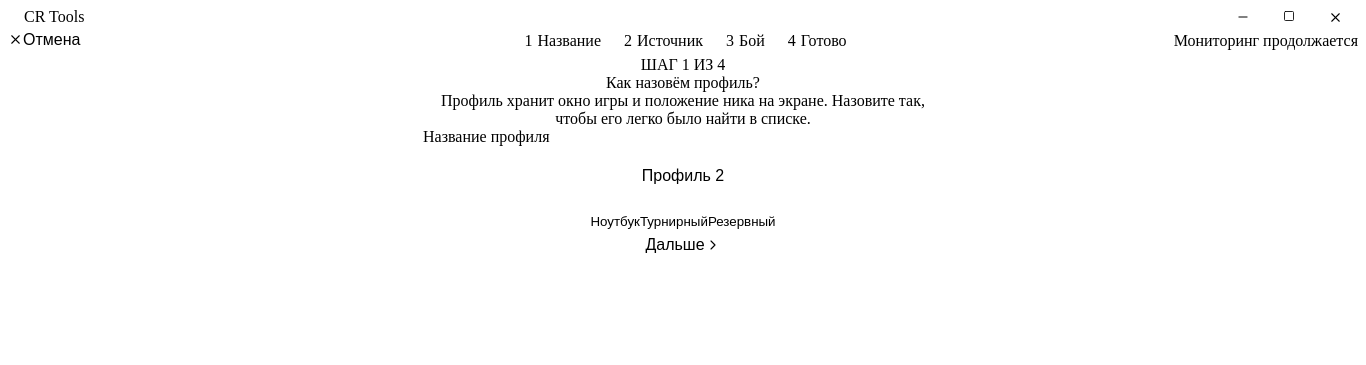
setup flow: new profile › reports a freeze failure on the source step and lets the user pick again
Click the button "Дальше" at (683,245), box [645,236,720,254]
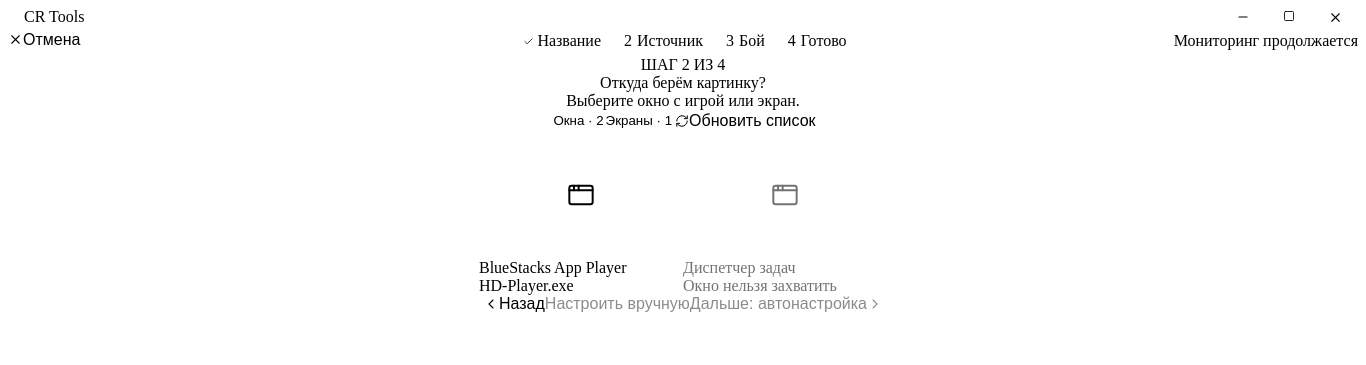
Click the button "BlueStacks App Player HD-Player.exe" at (581,213), box [479,131,683,294]
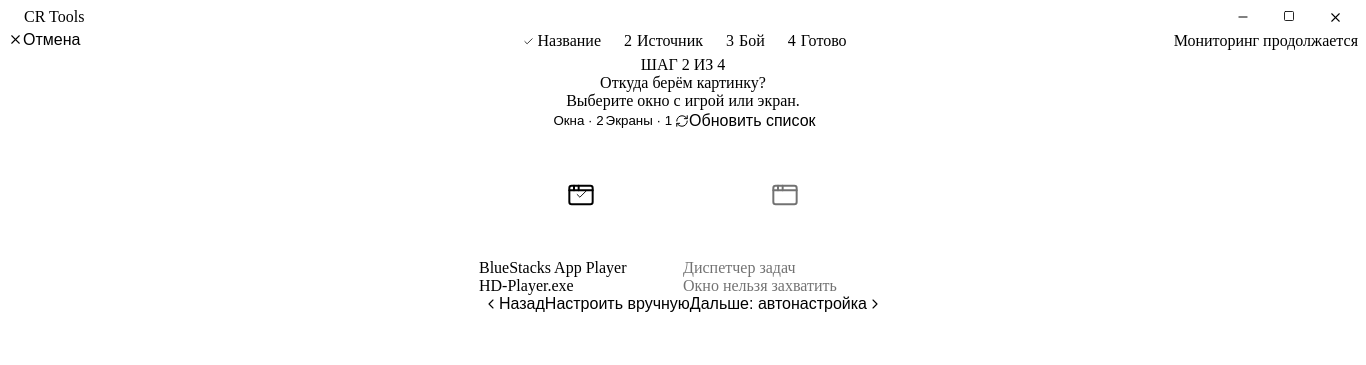
Result: the button "Настроить вручную" is enabled
Click the button "Настроить вручную" at (617,304), box [545,294,690,312]
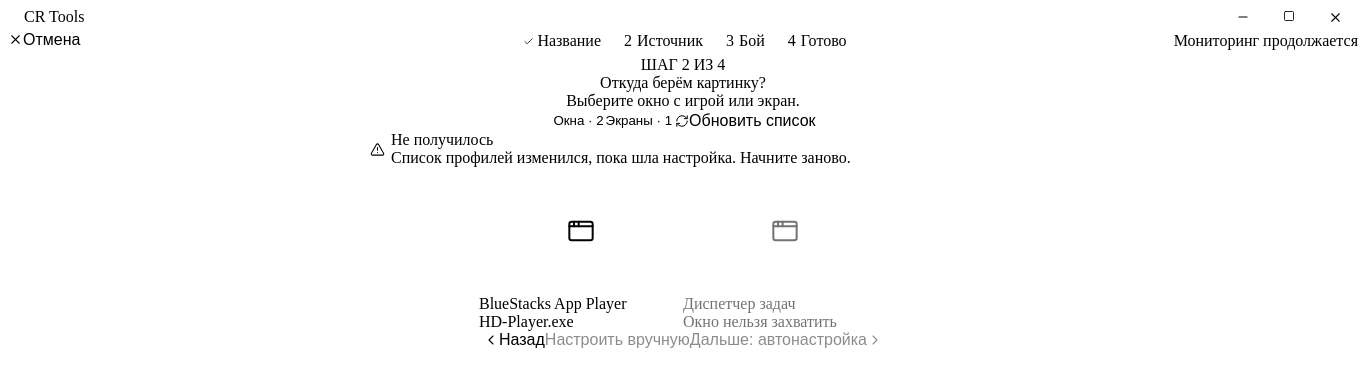
Result: the text "Список профилей изменился, пока шла настройка. Начните заново." is shown at [391,149,851,166]
Result: the button "Настроить вручную" is disabled at [545,330,690,348]
